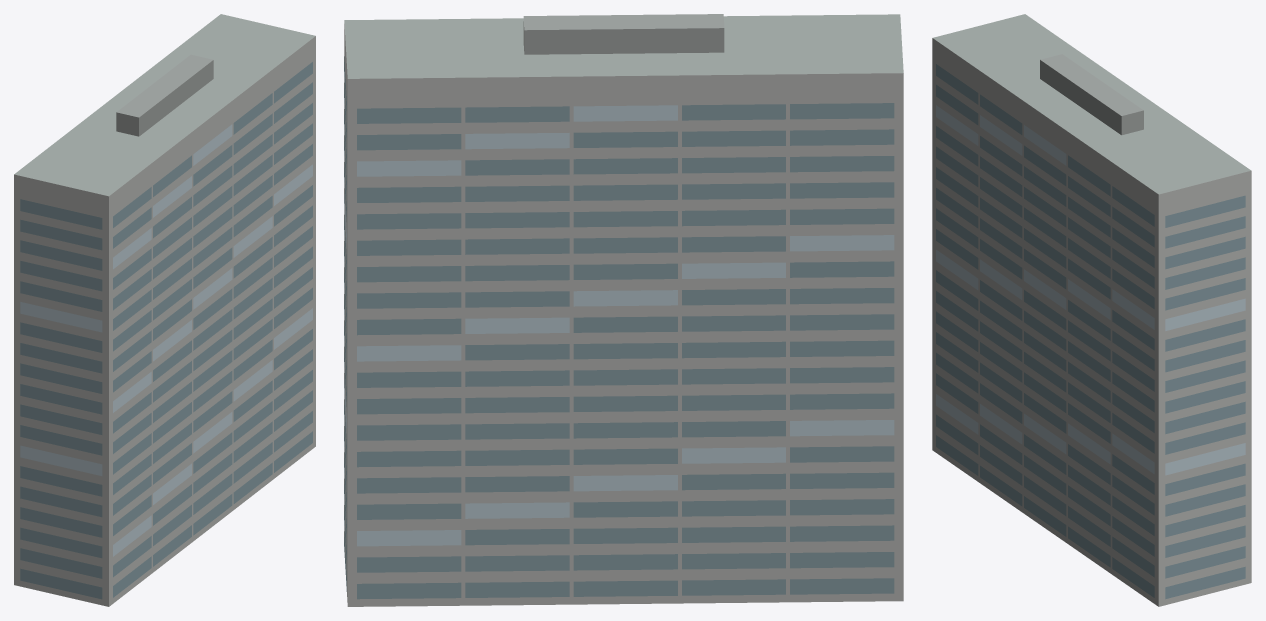
Rendered from fallback-sk-bukhansan-city-141.glb.
3 renders of one model, left to right at view 1: azimuth 30°, elevation 25°; view 2: azimuth 150°, elevation 25°; view 3: azimuth 270°, elevation 25°, orthographic. The views are drawn at different scales.
Visible parts, largest first — view 1: fallback-sk-bukhansan-city-141; view 2: fallback-sk-bukhansan-city-141; view 3: fallback-sk-bukhansan-city-141.
Boxes of the visible parts, x1=… form: fallback-sk-bukhansan-city-141: x1=14, y1=14, x2=315, y2=606; fallback-sk-bukhansan-city-141: x1=344, y1=14, x2=903, y2=606; fallback-sk-bukhansan-city-141: x1=932, y1=14, x2=1251, y2=606.
Bounding box in the file's own units: 48.46 × 54 × 36.19.
